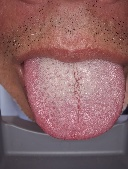tongue: (22, 66, 127, 142)
